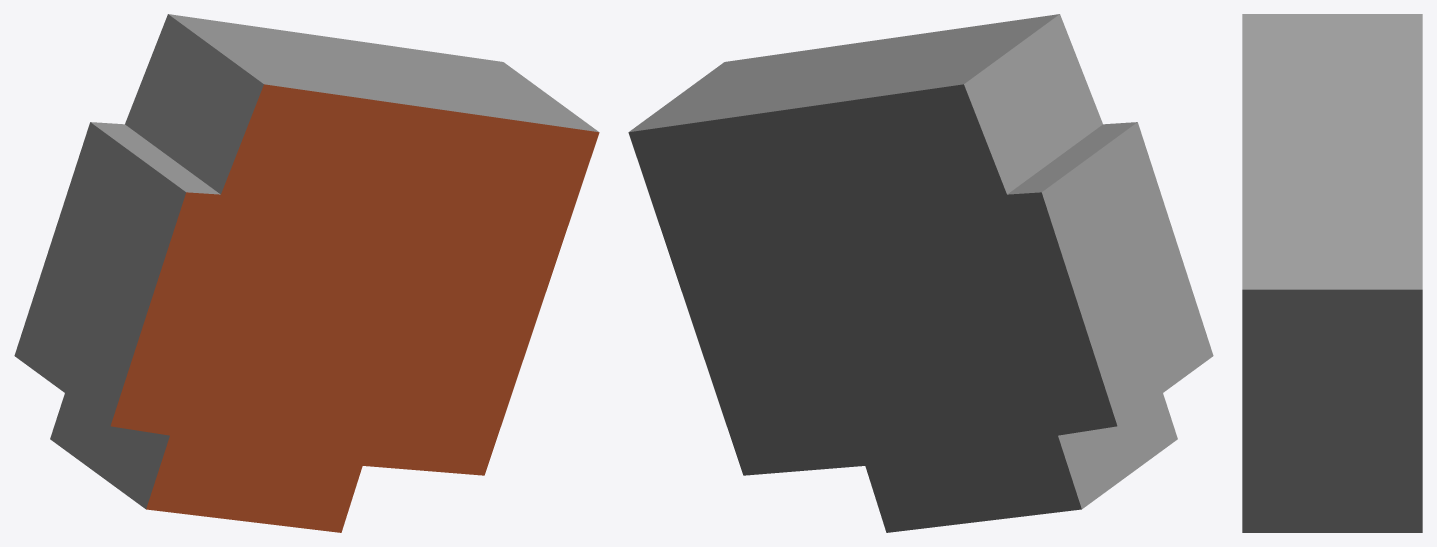
Rendered from construction_4270_assumed_A_Casa_h6m.obj.
3 views of the same model, side by side, from view 1: azimuth 30°, elevation 25°; view 2: azimuth 150°, elevation 25°; view 3: azimuth 270°, elevation 25° (orthographic). The views are drawn at different scales.
Visible parts, largest first — view 1: construction_4270_assumed_A_Casa; view 2: construction_4270_assumed_A_Casa; view 3: construction_4270_assumed_A_Casa.
Part boxes in pixels (box(x1,y1,x2,y2)): construction_4270_assumed_A_Casa: box(14, 14, 599, 532); construction_4270_assumed_A_Casa: box(628, 14, 1213, 532); construction_4270_assumed_A_Casa: box(1242, 14, 1422, 532).
Size of the model in its own units: 17.64 by 16.11 by 6.
